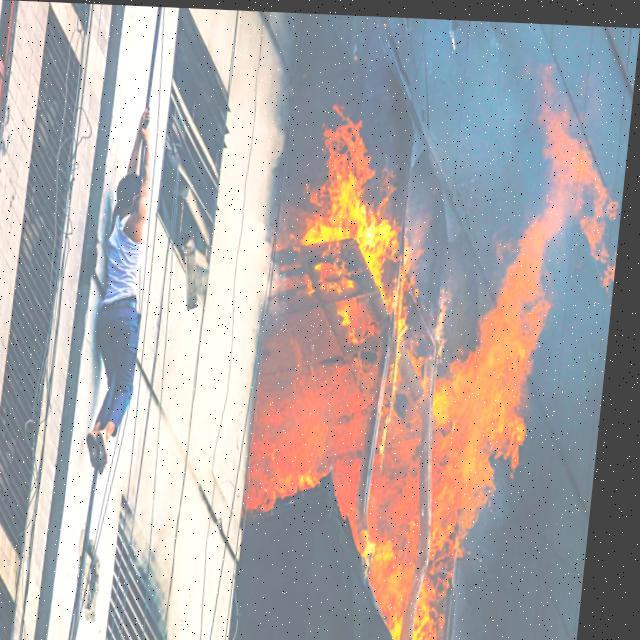Fire: (233, 109, 631, 639)
